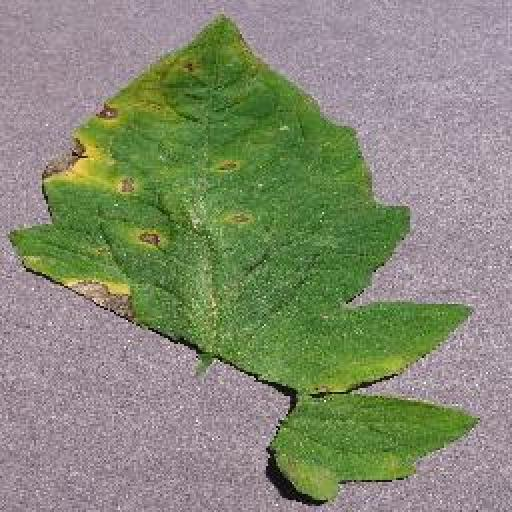Septoria: (8, 10, 475, 390)
